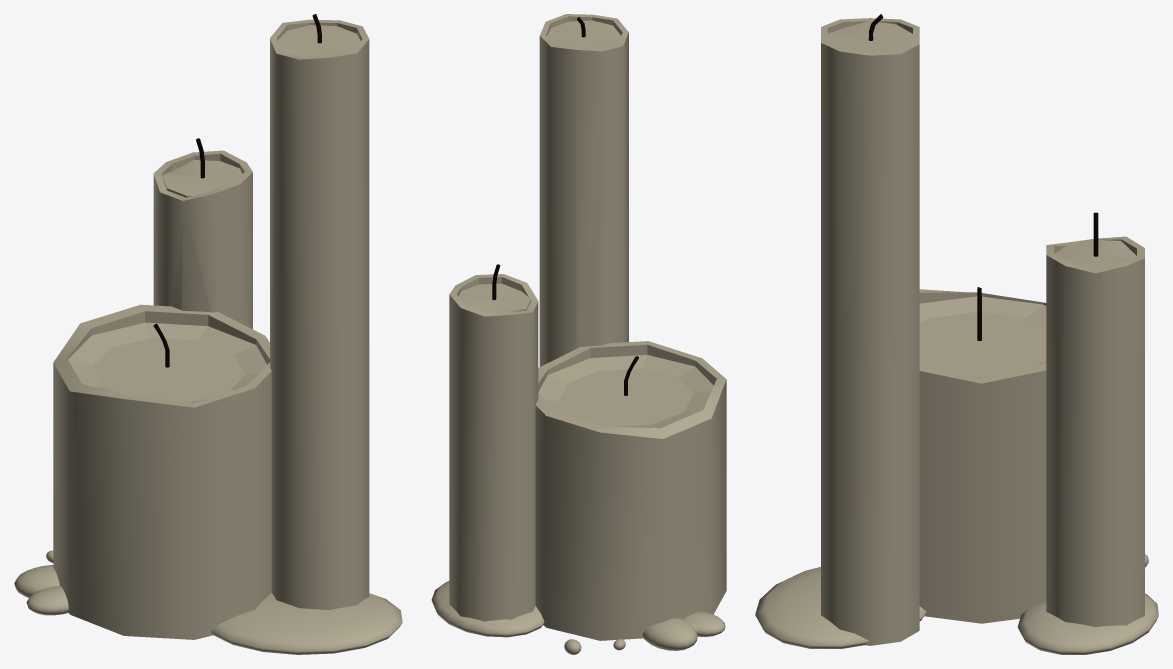
Rendered from candle.FBX.
3 renders of one model, left to right at view 1: azimuth 30°, elevation 25°; view 2: azimuth 150°, elevation 25°; view 3: azimuth 270°, elevation 25°, orthographic. The views are drawn at different scales.
Visible parts, largest first — view 1: Candle, wachs, Kerzenstaengel; view 2: Candle, wachs, Kerzenstaengel; view 3: Candle, wachs, Kerzenstaengel.
Boxes of the visible parts, box(x1,y1,x2,y2) form: Candle: box(53, 19, 369, 639); wachs: box(14, 550, 402, 654); Kerzenstaengel: box(153, 14, 321, 367); Candle: box(449, 14, 726, 640); wachs: box(431, 581, 725, 654); Kerzenstaengel: box(492, 17, 638, 395); Candle: box(821, 18, 1144, 645); wachs: box(755, 554, 1158, 654); Kerzenstaengel: box(868, 14, 1098, 340).
Bounding box in the file's own units: 2.53 × 5.06 × 2.98.
